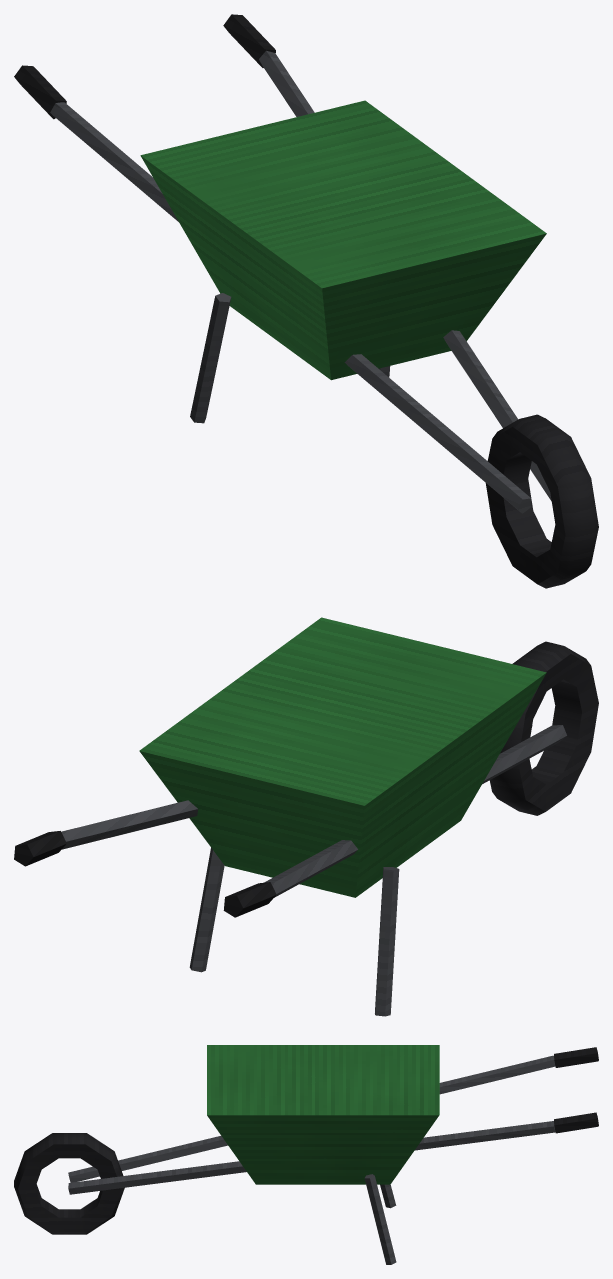
The model's file is carrinho_de_mao.glb.
3 views of the same model, one above another, from view 1: azimuth 30°, elevation 25°; view 2: azimuth 150°, elevation 25°; view 3: azimuth 270°, elevation 25° (orthographic). The views are drawn at different scales.
Parts seen in each view (by area): view 1: Inteiro; view 2: Inteiro; view 3: Inteiro.
Part boxes in pixels (x1,y1,x2,y2): Inteiro: (14, 14, 598, 588); Inteiro: (14, 617, 598, 1016); Inteiro: (14, 1045, 598, 1264).
Bounding box in the file's own units: 0.5452 × 0.5542 × 1.89.
1 material, 1 textured.
